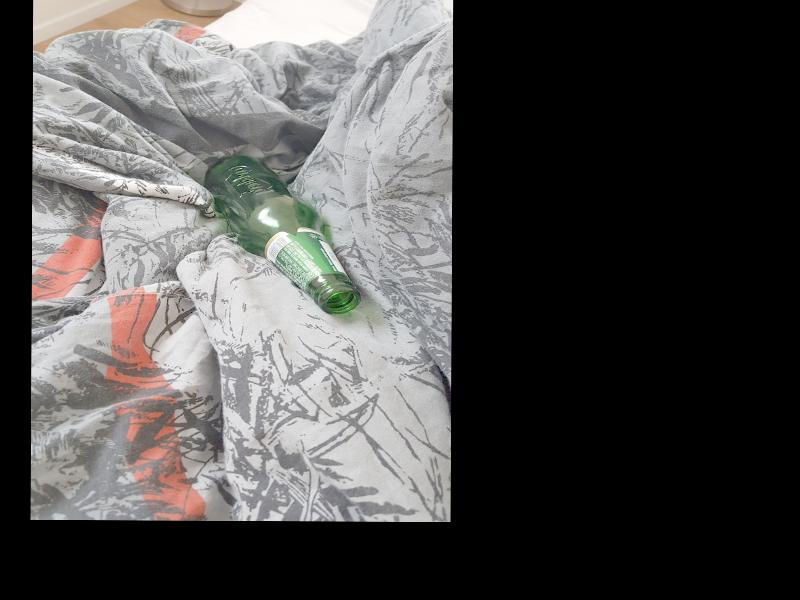Beer: (204, 155, 358, 316)
